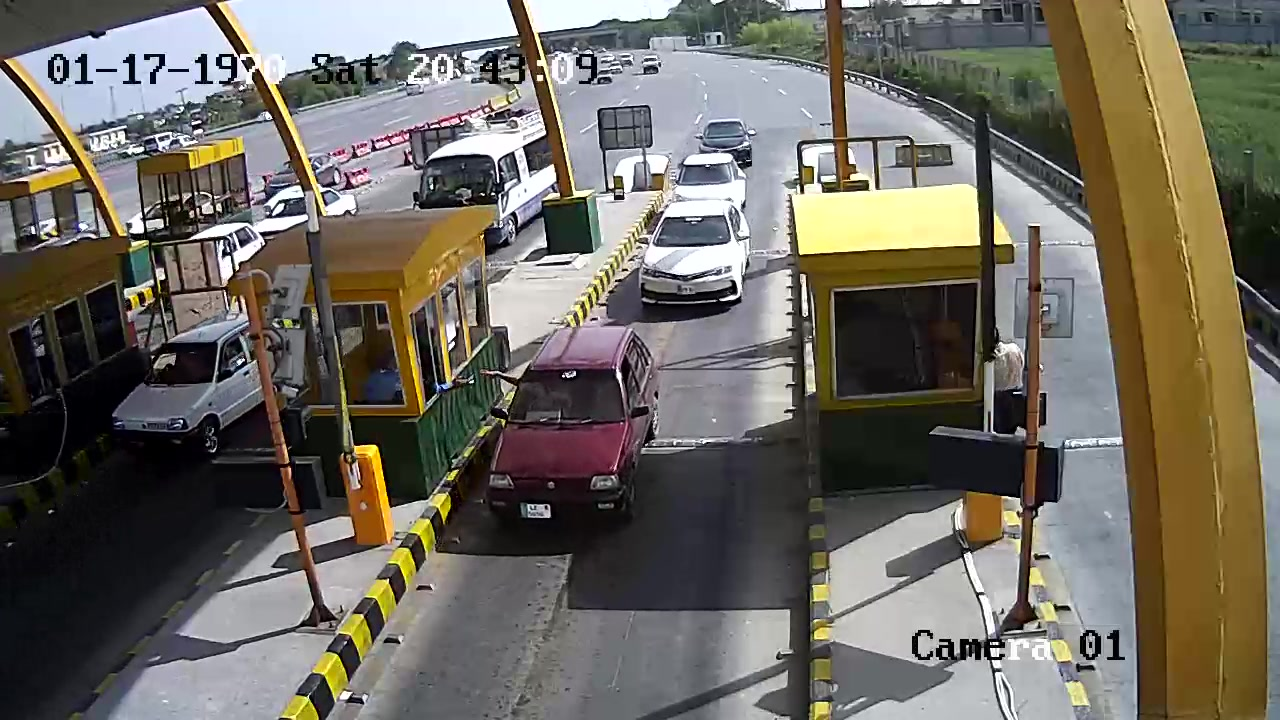F1: (477, 320, 672, 539)
